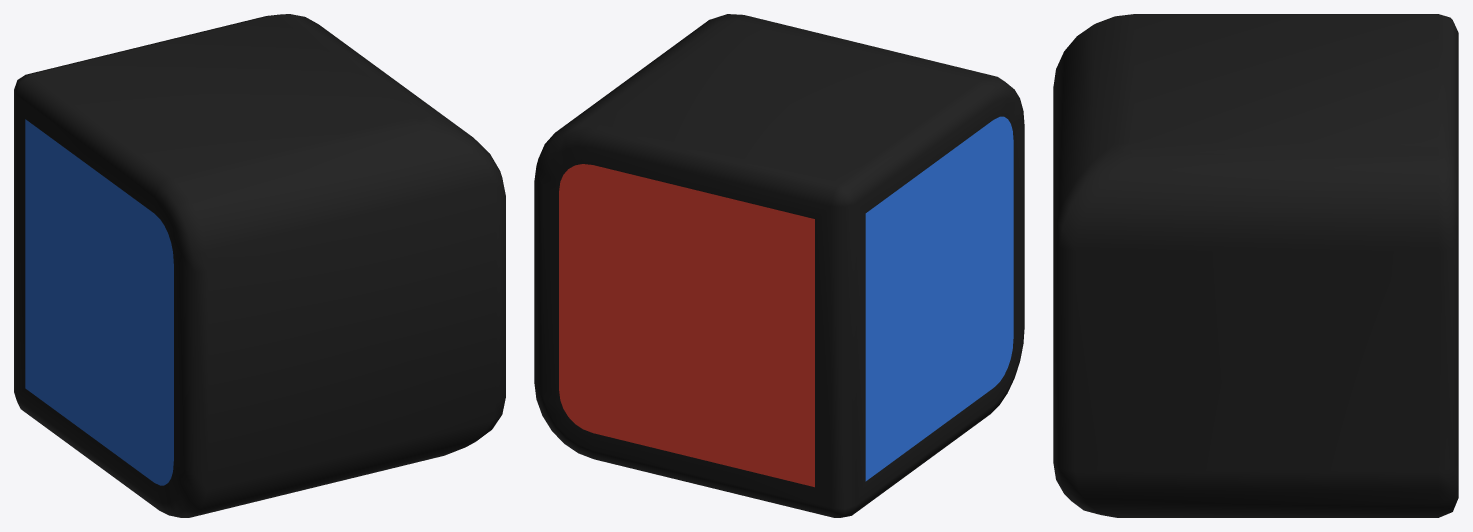
3 renders of one model, left to right at view 1: azimuth 30°, elevation 25°; view 2: azimuth 150°, elevation 25°; view 3: azimuth 270°, elevation 25°, orthographic. The views are drawn at different scales.
Visible parts, largest first — view 1: 12; view 2: 12; view 3: 12.
Part boxes in pixels (left/top/right/bottom): 12: left=14, top=14, right=505, bottom=517; 12: left=534, top=14, right=1024, bottom=517; 12: left=1053, top=14, right=1458, bottom=517.
Bounding box in the file's own units: 2 × 2 × 2.
